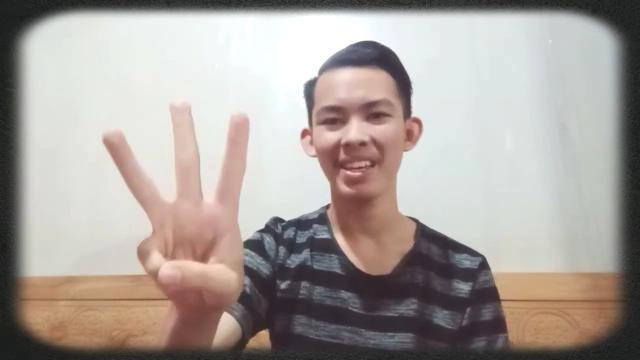W: (100, 93, 256, 318)
